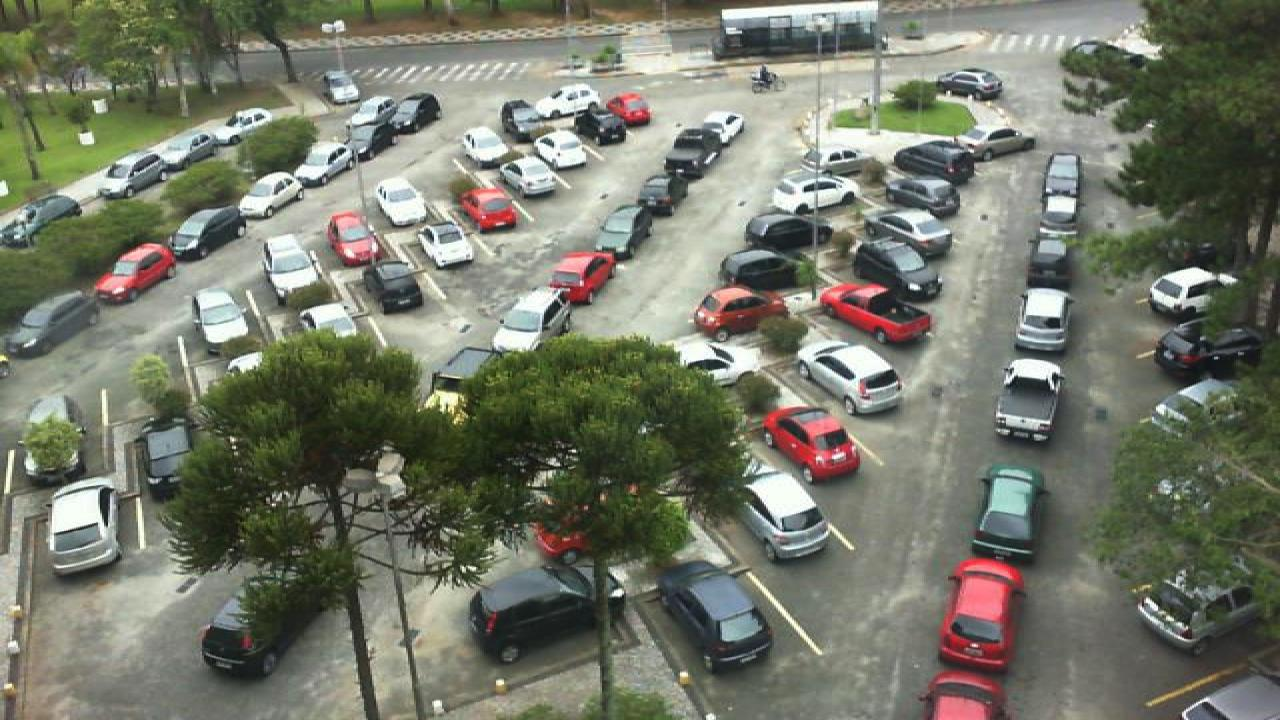Car: (464, 562, 632, 666), (656, 559, 774, 676), (198, 567, 320, 679), (934, 556, 1028, 671), (1134, 578, 1262, 656), (738, 468, 834, 561), (796, 342, 906, 416), (762, 405, 862, 483), (46, 478, 124, 574), (1150, 322, 1270, 384), (818, 282, 932, 346), (970, 465, 1046, 560), (4, 290, 98, 360), (18, 392, 86, 486), (992, 358, 1066, 443), (848, 240, 944, 304), (490, 287, 576, 354), (136, 414, 200, 504), (690, 282, 788, 340), (1148, 264, 1244, 322), (94, 241, 176, 305), (0, 191, 84, 253), (264, 290, 334, 357), (918, 670, 1010, 720), (868, 208, 956, 258), (168, 206, 246, 262), (892, 137, 978, 186), (544, 250, 618, 306), (768, 174, 860, 218), (1012, 287, 1072, 354), (190, 288, 250, 354), (260, 231, 322, 294), (672, 339, 750, 388), (720, 250, 802, 296), (744, 209, 832, 251), (98, 151, 170, 197), (238, 171, 306, 219), (364, 261, 424, 315), (416, 218, 476, 272), (456, 184, 520, 234), (596, 205, 654, 260), (888, 176, 960, 220), (292, 140, 362, 185), (374, 177, 430, 233), (954, 125, 1038, 161), (326, 210, 380, 266), (492, 155, 560, 199), (528, 128, 590, 172), (534, 82, 606, 118), (156, 127, 220, 167), (344, 116, 406, 157), (208, 107, 274, 145), (934, 68, 1004, 102), (796, 146, 868, 178), (1040, 152, 1082, 206), (384, 93, 442, 130), (572, 108, 628, 146), (1028, 235, 1068, 288), (1026, 199, 1074, 243), (460, 124, 510, 166), (668, 125, 718, 166), (630, 174, 674, 218), (500, 99, 548, 137), (692, 112, 748, 144), (606, 91, 652, 127), (346, 94, 400, 122), (652, 151, 692, 188), (322, 70, 360, 105)
